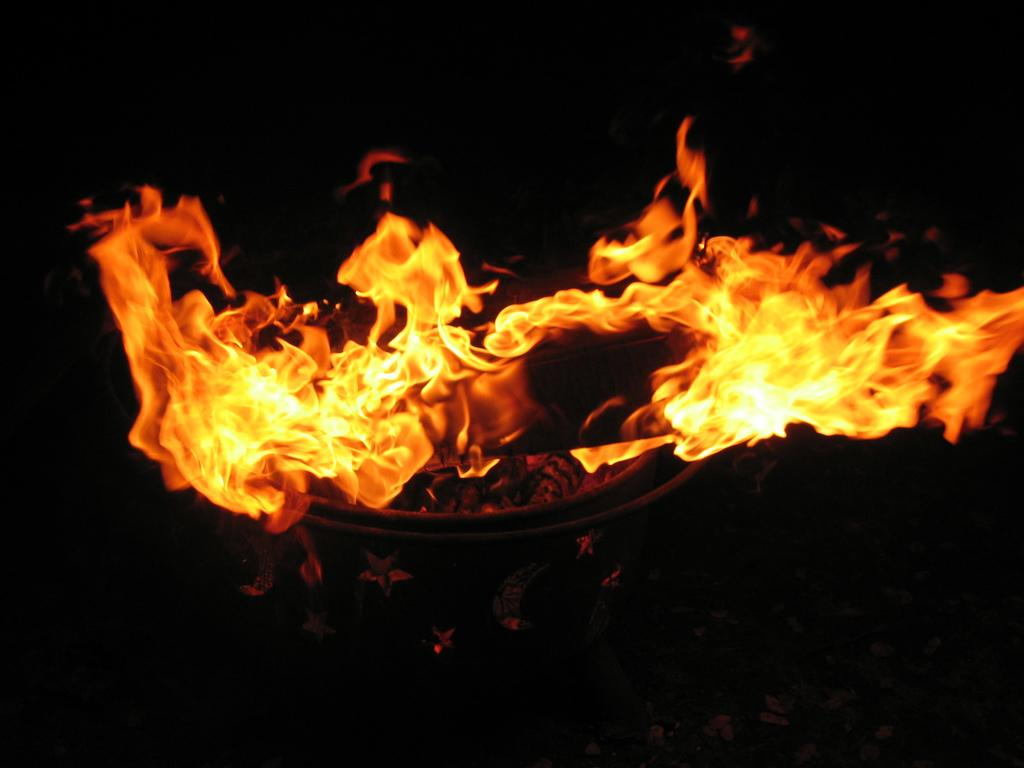fire: (684, 284, 896, 420), (166, 350, 384, 476)
